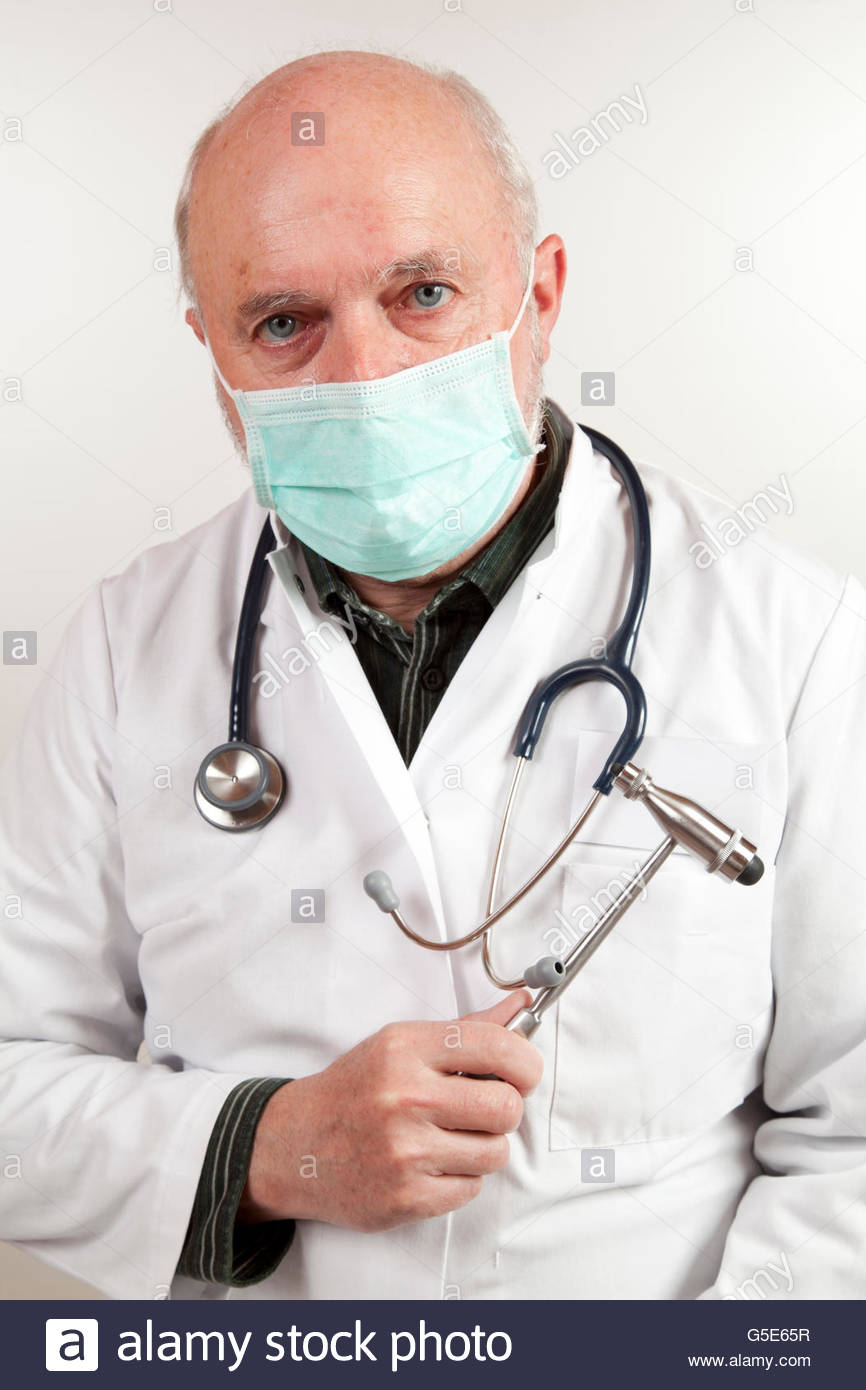mask: (243, 341, 534, 582)
